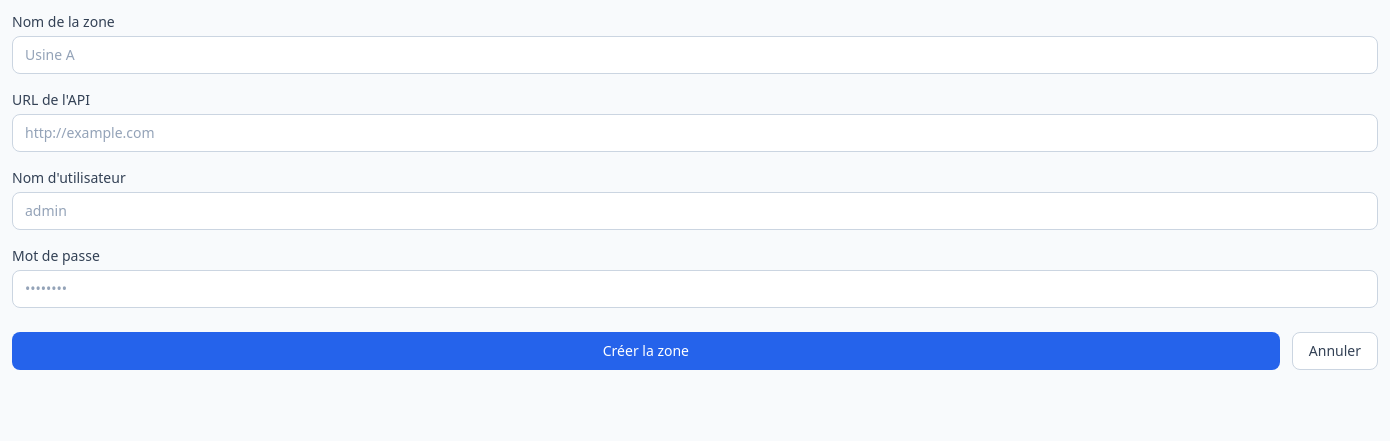
ZoneForm › displays the aggregated validation errors returned by the API
The width and height of the screenshot is (1390, 441).
In the field with placeholder "Usine A": x=695, y=55 top-left (12, 36), bottom-right (1378, 74), type "X"
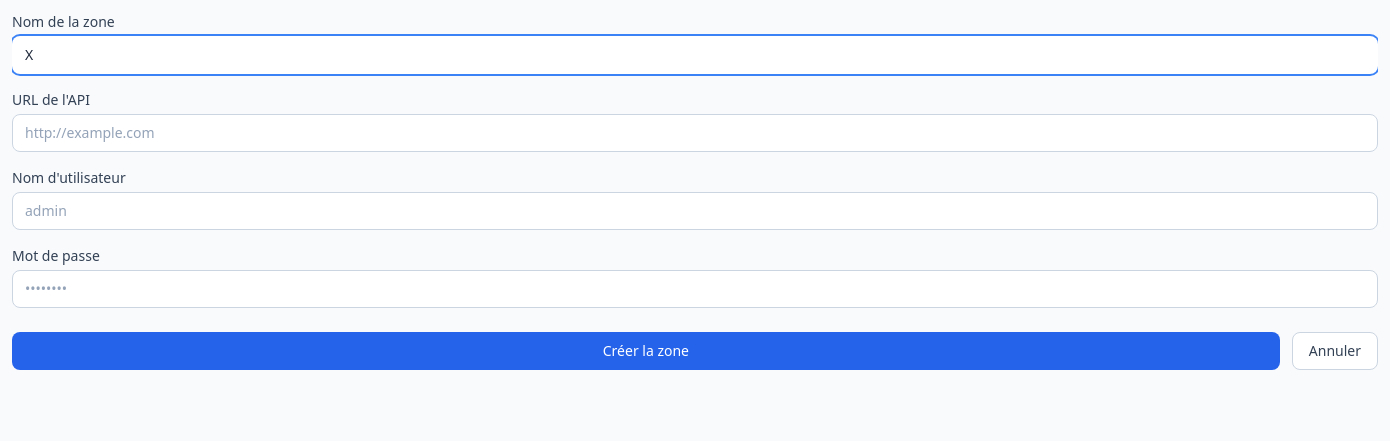
In the field with placeholder "http://example.com": x=695, y=133 top-left (12, 114), bottom-right (1378, 152), type "https://example.com"
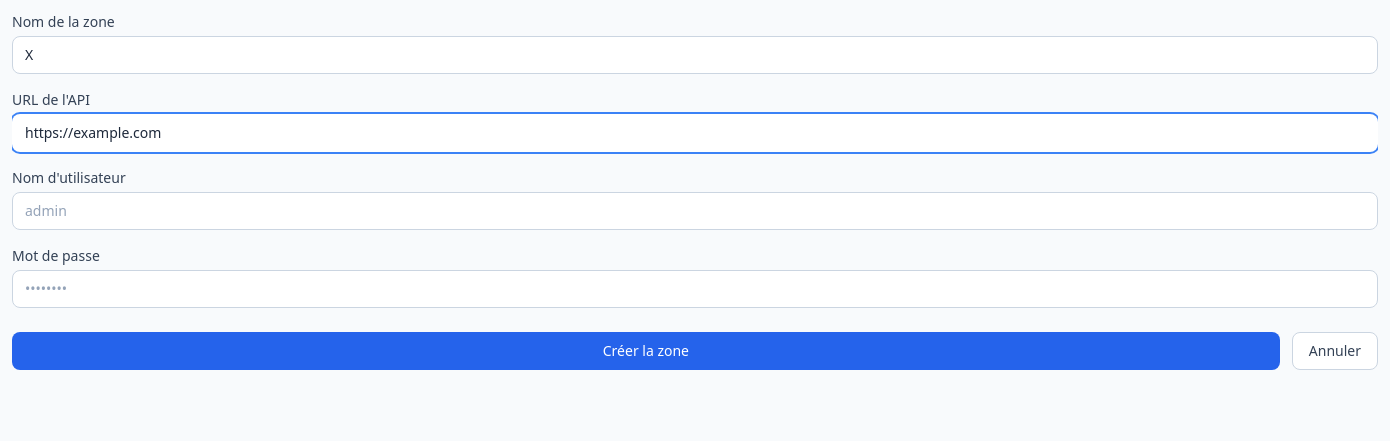
In the field with placeholder "admin": x=695, y=211 top-left (12, 192), bottom-right (1378, 230), type "u"
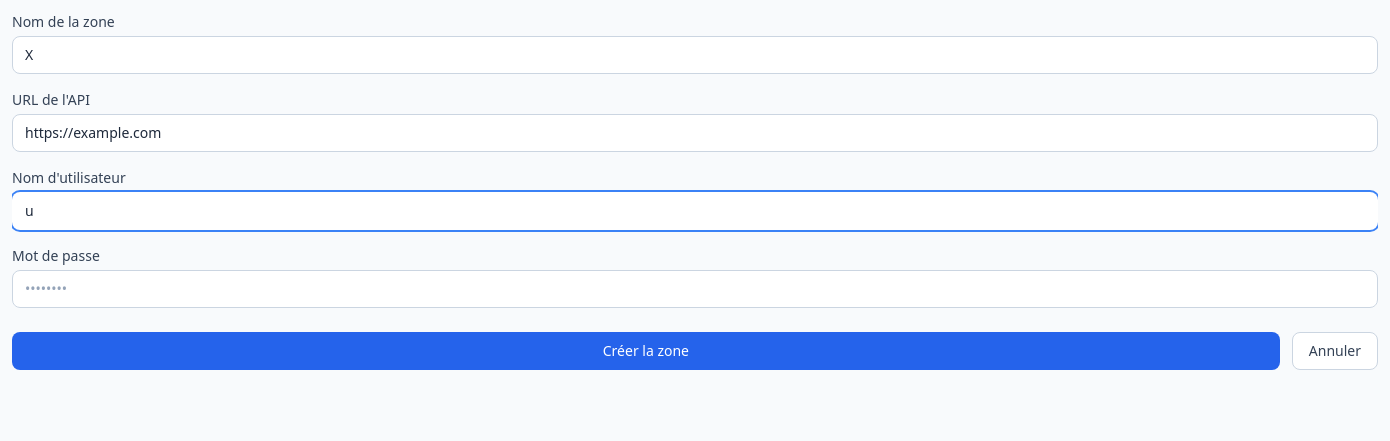
In the password field with placeholder "••••••••": x=695, y=289 top-left (12, 270), bottom-right (1378, 308), type "p"
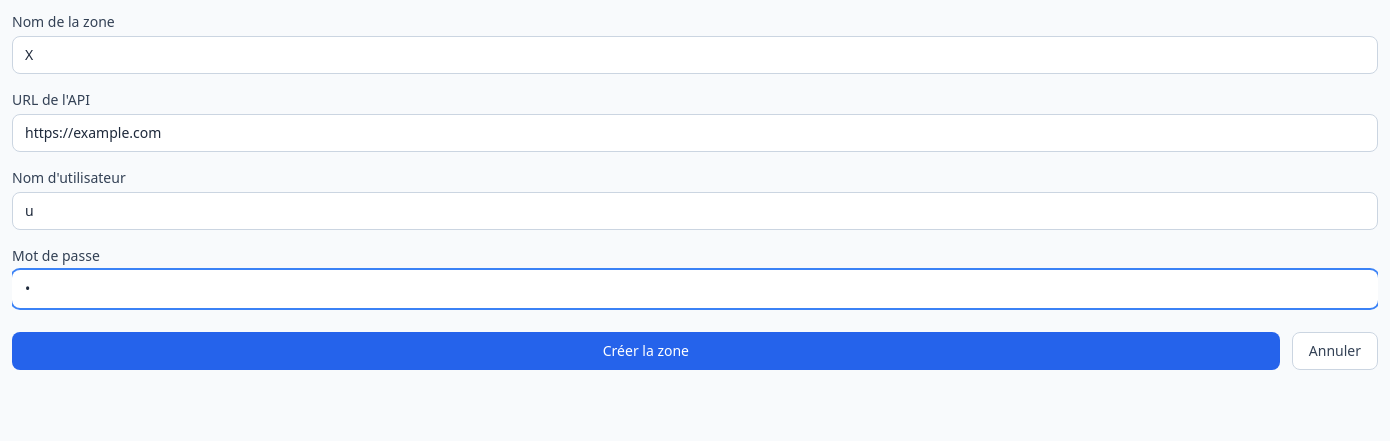
Click the button "Créer la zone": x=646, y=351 top-left (12, 332), bottom-right (1280, 370)
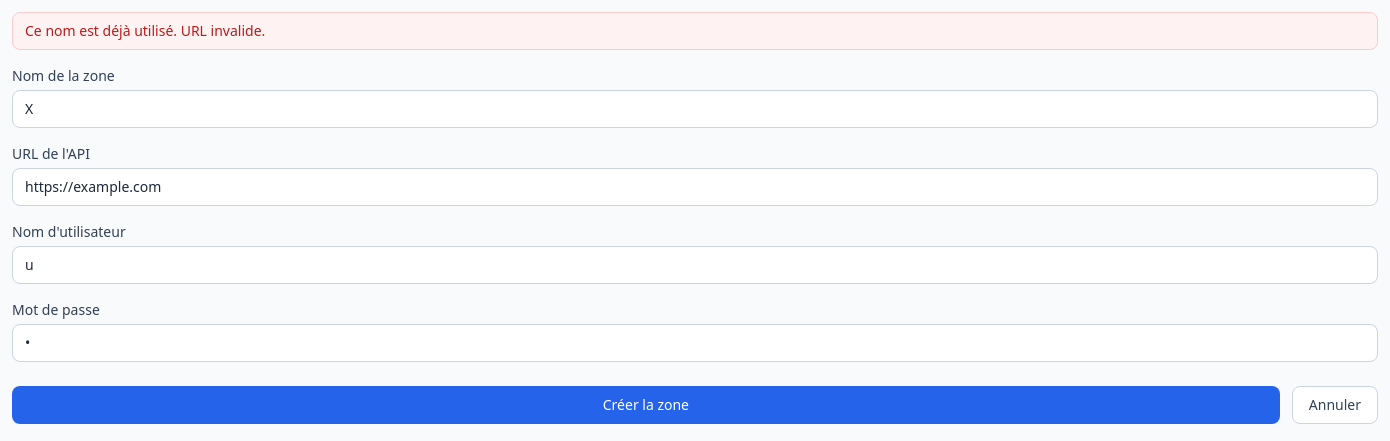
expect the text "Ce nom est déjà utilisé. URL invalide." is shown: met, box top-left (12, 12), bottom-right (1378, 50)
